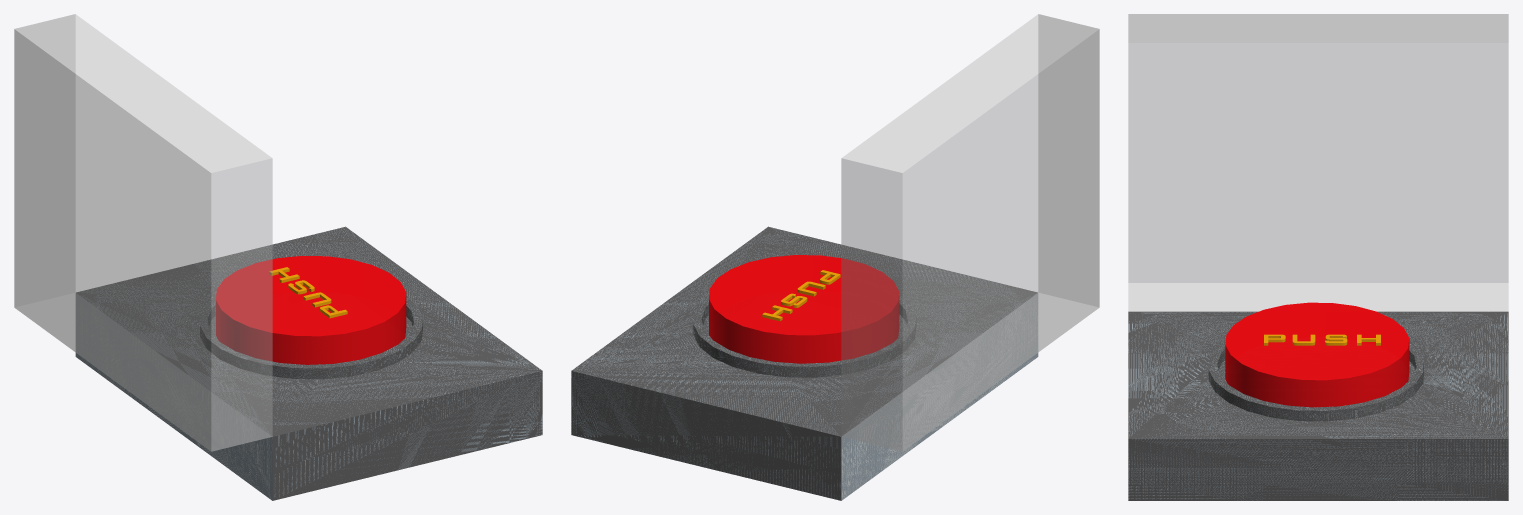
File: Button.fbx
The picture shows the model from 3 angles, left to right: view 1: azimuth 30°, elevation 25°; view 2: azimuth 150°, elevation 25°; view 3: azimuth 270°, elevation 25°; orthographic projection. The views are drawn at different scales.
Parts seen in each view (by area): view 1: Component_2_1, PUSH1; view 2: Component_2_1, PUSH1; view 3: Component_2_1, PUSH1.
Part boxes in pixels (left/top/right/bottom): Component_2_1: left=14, top=14, right=542, bottom=500; PUSH1: left=269, top=267, right=347, bottom=318; Component_2_1: left=571, top=14, right=1099, bottom=500; PUSH1: left=762, top=270, right=840, bottom=321; Component_2_1: left=1128, top=14, right=1508, bottom=500; PUSH1: left=1264, top=334, right=1380, bottom=345.
Bounding box in the file's own units: 3185 × 3146 × 3278.
